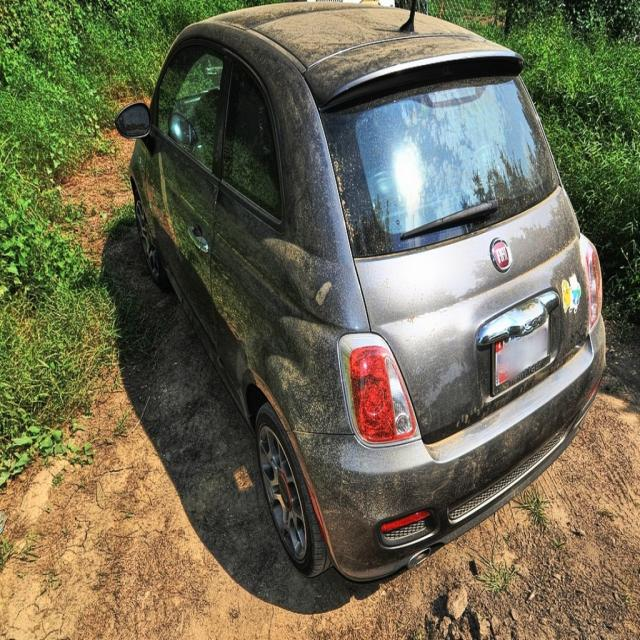car: (108, 2, 593, 600)
